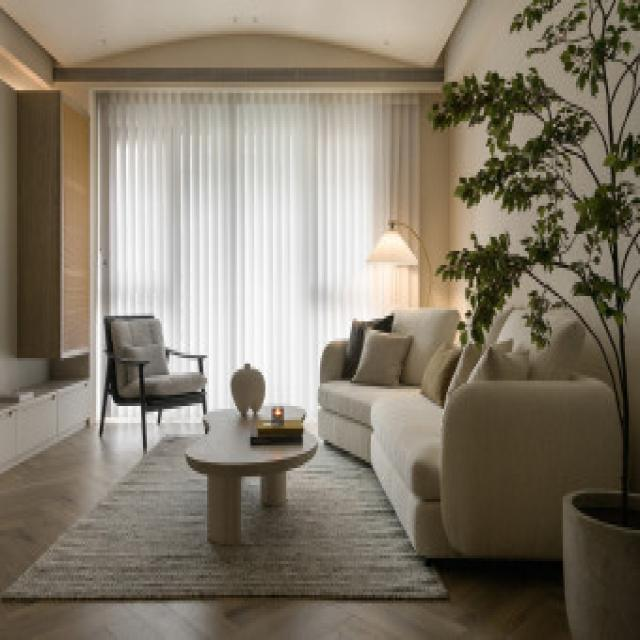Chair: (98, 305, 210, 453)
Sofa: (318, 299, 626, 567)
Table: (193, 397, 318, 553)
window: (94, 90, 441, 308)
